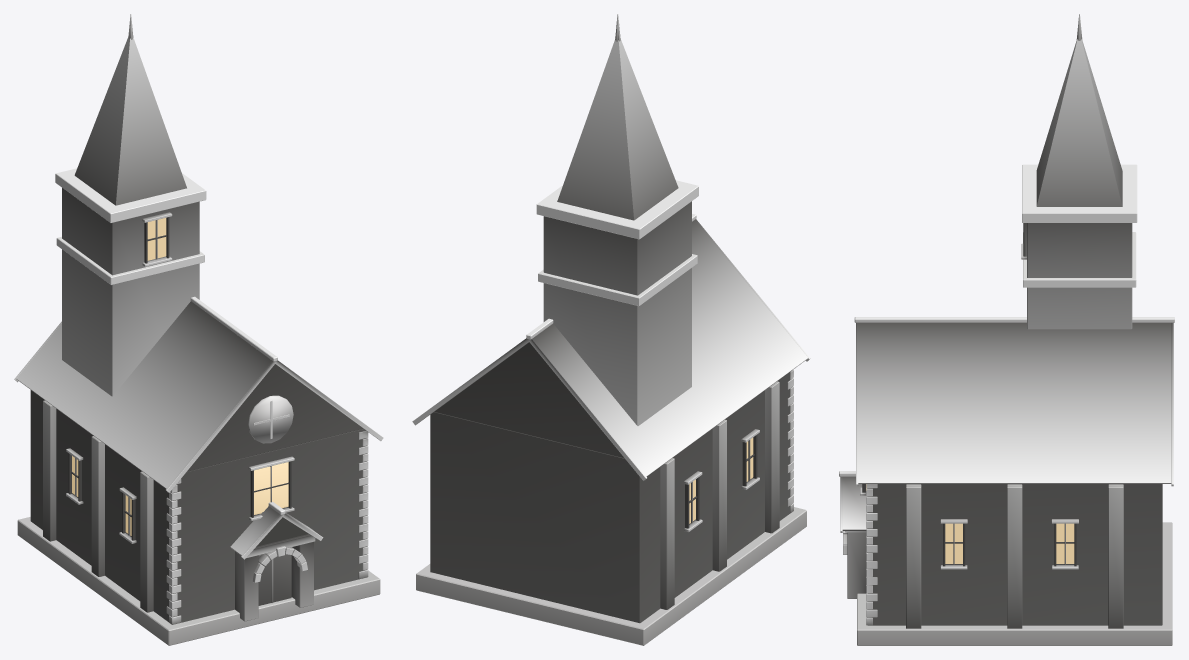
Rendered from bldg_market_chapel.glb.
3 renders of one model, left to right at view 1: azimuth 30°, elevation 25°; view 2: azimuth 150°, elevation 25°; view 3: azimuth 270°, elevation 25°, orthographic. The views are drawn at different scales.
Visible parts, largest first — view 1: bldg_market_chapel; view 2: bldg_market_chapel; view 3: bldg_market_chapel.
Boxes of the visible parts, x1,y1,x2,y2 form: bldg_market_chapel: [14, 14, 383, 645]; bldg_market_chapel: [412, 14, 810, 645]; bldg_market_chapel: [839, 14, 1174, 645].
Size of the model in its own units: 12.9 by 30.5 by 16.59.
